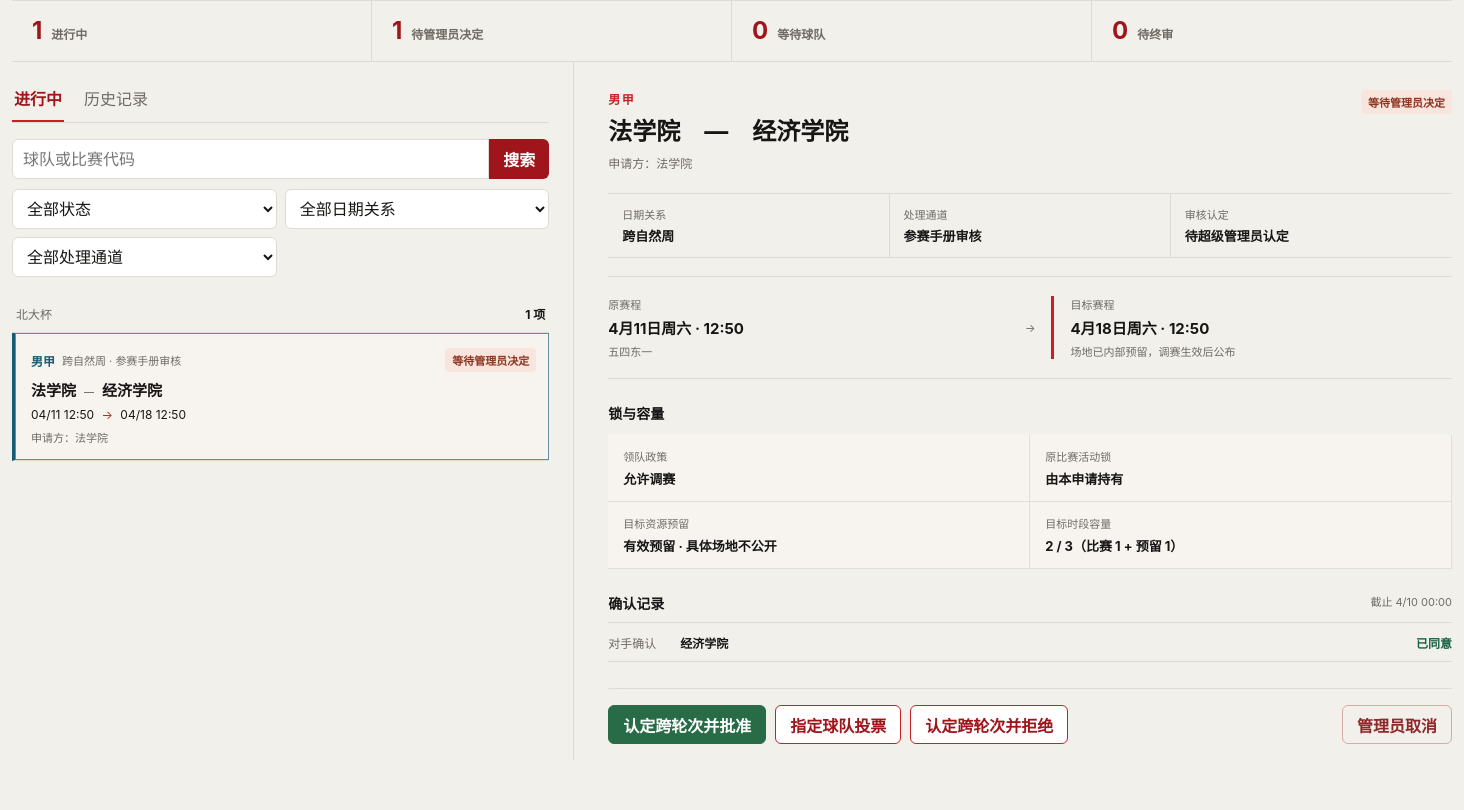
Test case: RescheduleManagementPage › keeps the conflict reason when its authoritative refresh also fails
Click the button "认定跨轮次并批准": (687, 724) x1=608 y1=705 x2=766 y2=744
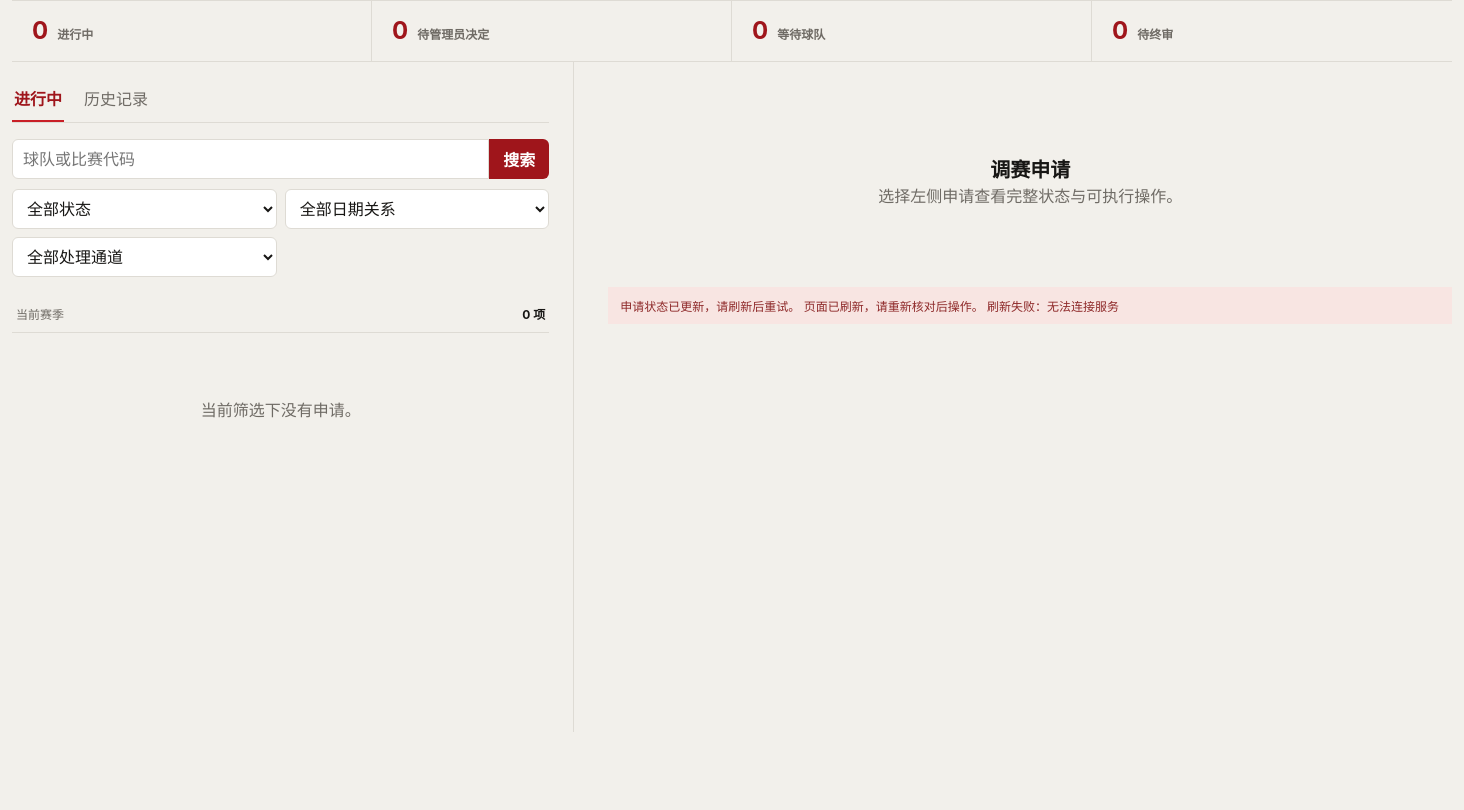
Check: the message reads "申请状态已更新，请刷新后重试。 页面已刷新，请重新核对后操作。 刷新失败：无法连接服务", box x1=620 y1=299 x2=1119 y2=314
